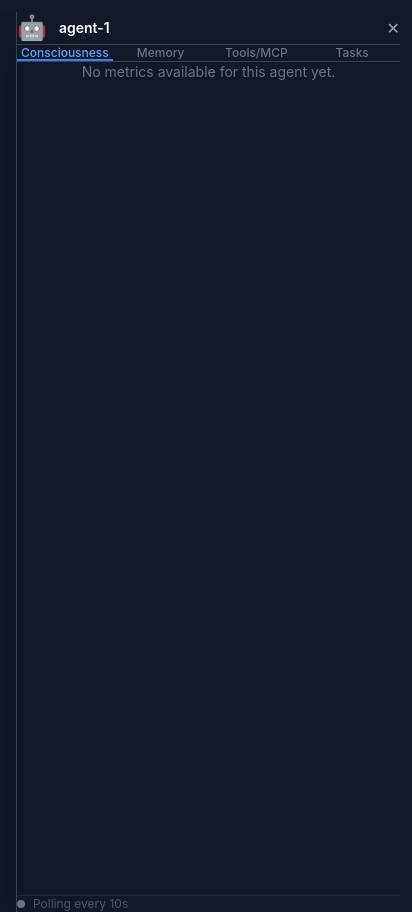
Scenario: MemoryTabContent › shows unavailable status when memory backend is not available
The width and height of the screenshot is (412, 912).
Click the tab "Memory".
click(161, 53)  # box [113,45,209,61]
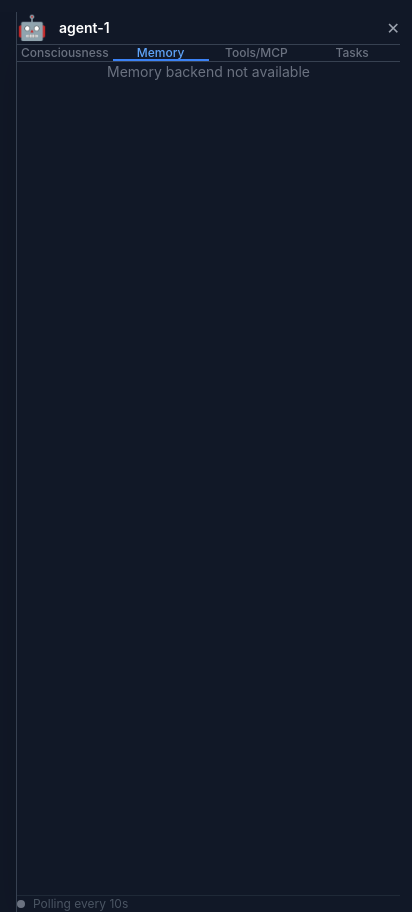
Now the text "Memory backend not available" is shown, box [107,63,310,80]
